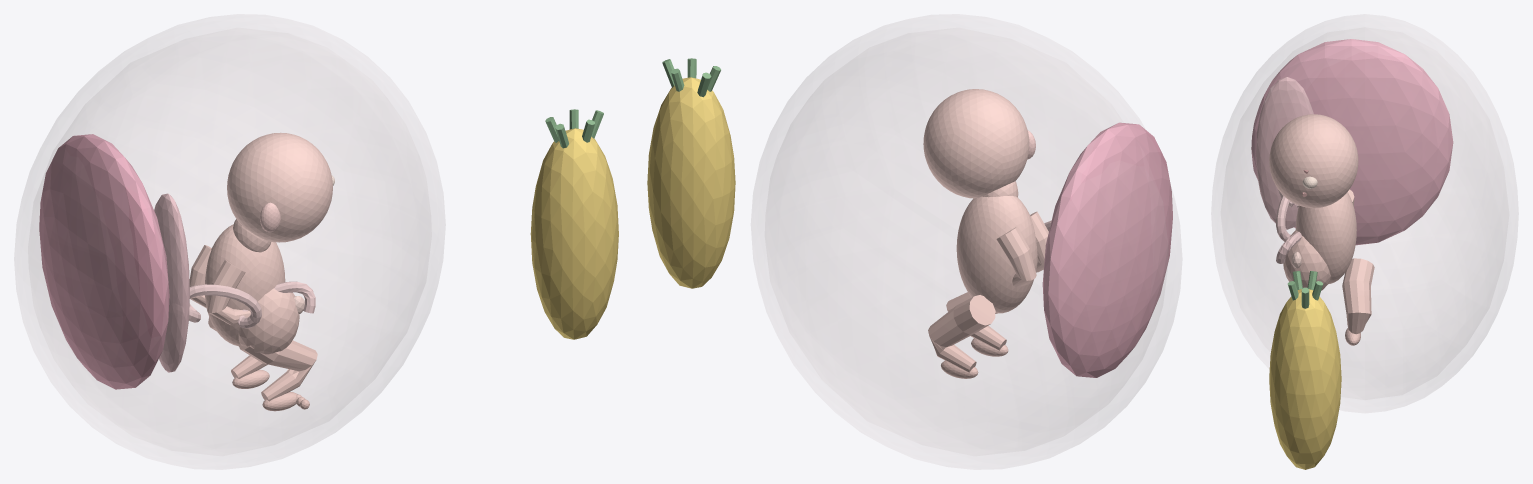
The model's file is hafta_24.glb.
The picture shows the model from 3 angles, left to right: view 1: azimuth 30°, elevation 25°; view 2: azimuth 150°, elevation 25°; view 3: azimuth 270°, elevation 25°; orthographic projection. The views are drawn at different scales.
Parts seen in each view (by area): view 1: Gebelik_kesesi_dis_zar_25, Plasenta_gelisen_doku_27, Sebze_Mısır_29, Bas_1, Plasenta_yumusak_yuzey_28, Gogus_govde_2, Gobel_ve_karin_3, Bacak_on_18, Gobek_kordonu_ogretici_24, Kol_on_11, Kol_on_arka_9; view 2: Gebelik_kesesi_dis_zar_25, Plasenta_gelisen_doku_27, Sebze_Mısır_29, Bas_1, Gogus_govde_2, Bacak_arka_16, Kol_on_arka_9, Bacak_on_18, Kol_on_11; view 3: Gebelik_kesesi_dis_zar_25, Plasenta_gelisen_doku_27, Sebze_Mısır_29, Bas_1, Plasenta_yumusak_yuzey_28, Gogus_govde_2, Bacak_arka_16, Gobel_ve_karin_3, Gobek_kordonu_ogretici_24.
Boxes of the visible parts, x1,y1,x2,y2 form: Gebelik_kesesi_dis_zar_25: (14, 14, 445, 469); Plasenta_gelisen_doku_27: (39, 134, 169, 389); Sebze_Mısır_29: (530, 128, 618, 339); Bas_1: (227, 132, 332, 242); Plasenta_yumusak_yuzey_28: (154, 193, 189, 372); Gogus_govde_2: (205, 224, 285, 346); Gobel_ve_karin_3: (238, 288, 299, 354); Bacak_on_18: (238, 340, 317, 401); Gobek_kordonu_ogretici_24: (189, 281, 315, 328); Kol_on_11: (207, 260, 250, 325); Kol_on_arka_9: (189, 245, 211, 307); Gebelik_kesesi_dis_zar_25: (751, 14, 1181, 469); Plasenta_gelisen_doku_27: (1042, 122, 1172, 377); Sebze_Mısır_29: (647, 77, 735, 288); Bas_1: (923, 89, 1029, 198); Gogus_govde_2: (956, 196, 1037, 313); Bacak_arka_16: (928, 295, 995, 372); Kol_on_arka_9: (996, 227, 1036, 286); Bacak_on_18: (946, 292, 1006, 350); Kol_on_11: (1030, 211, 1048, 272); Gebelik_kesesi_dis_zar_25: (1211, 14, 1518, 412); Plasenta_gelisen_doku_27: (1251, 39, 1453, 245); Sebze_Mısır_29: (1269, 289, 1341, 469); Bas_1: (1269, 114, 1358, 208); Plasenta_yumusak_yuzey_28: (1255, 77, 1313, 229); Gogus_govde_2: (1295, 192, 1356, 283); Bacak_arka_16: (1342, 258, 1374, 334); Gobel_ve_karin_3: (1283, 230, 1330, 290); Gobek_kordonu_ogretici_24: (1276, 190, 1301, 263).
Size of the model in its own units: 10.83 by 8.1 by 6.2.
